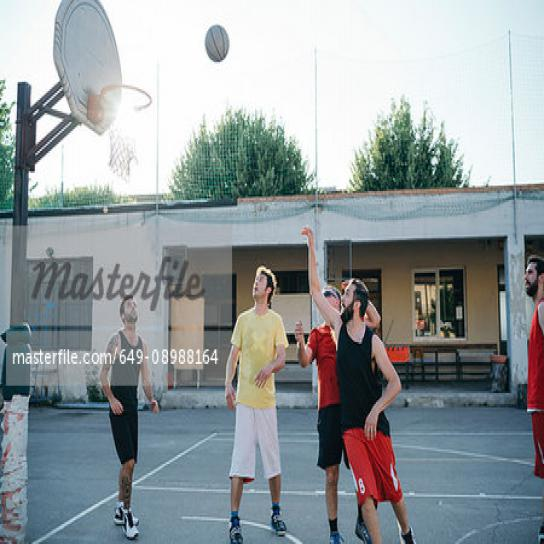basketball-hoop: (99, 84, 154, 178)
